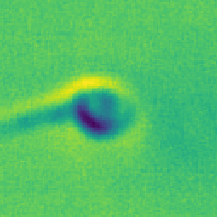normal: (1, 73, 72, 153)
